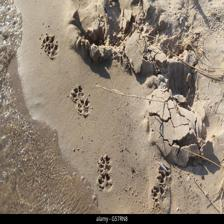dog: (94, 154, 116, 175), (75, 97, 92, 116)
